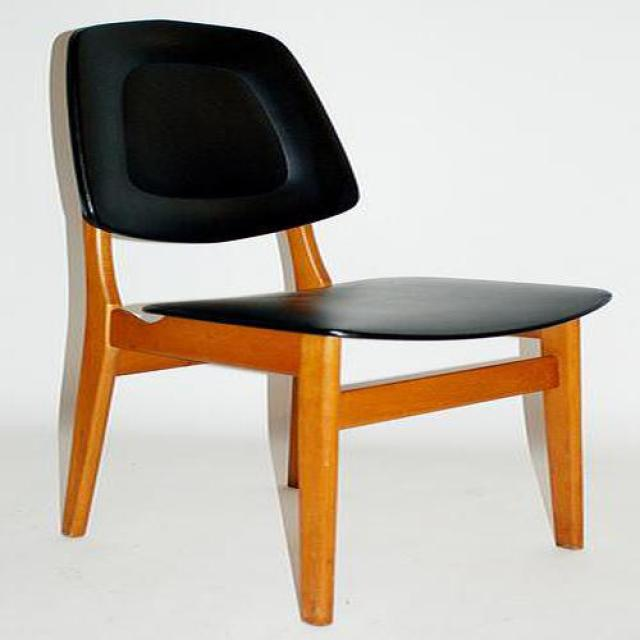chair: (63, 22, 612, 628)
